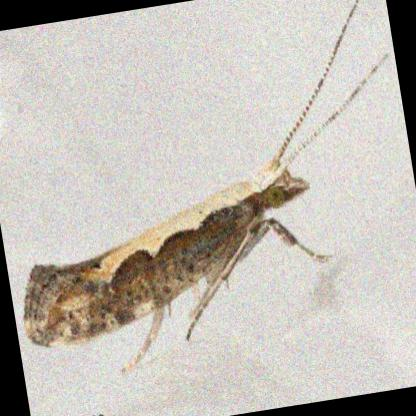plutella: (15, 0, 394, 379)
